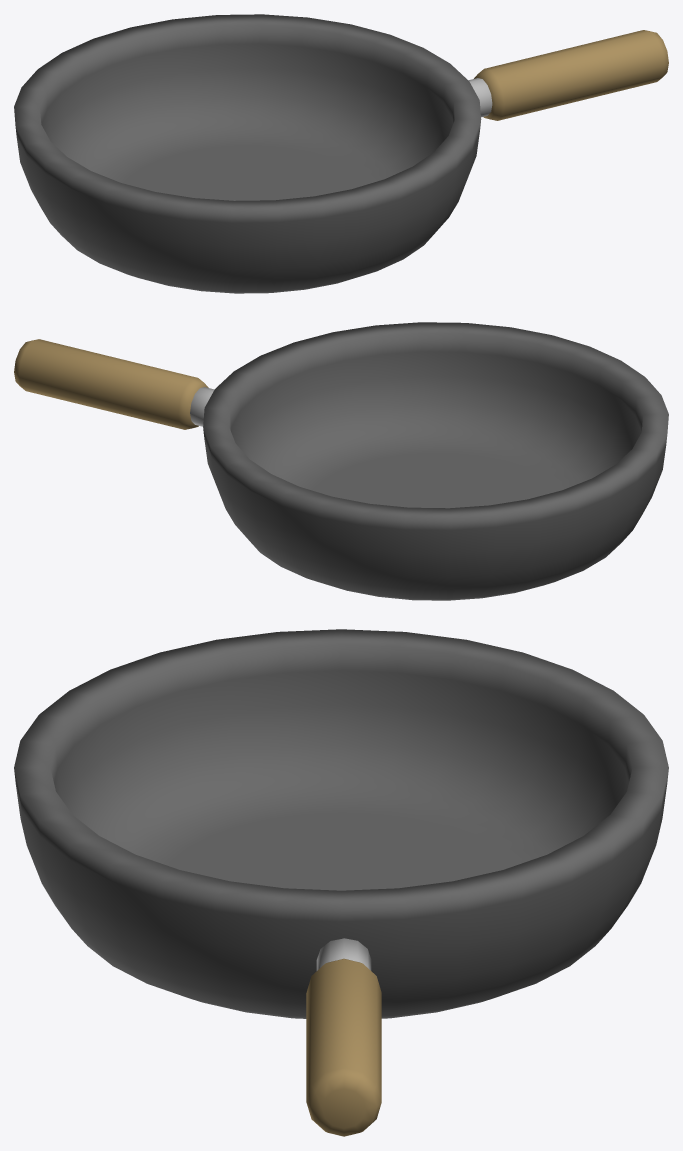
Rendered from Pan_01.fbx.
3 views of the same model, one above another, from view 1: azimuth 30°, elevation 25°; view 2: azimuth 150°, elevation 25°; view 3: azimuth 270°, elevation 25° (orthographic). The views are drawn at different scales.
Parts seen in each view (by area): view 1: Pan_01; view 2: Pan_01; view 3: Pan_01.
Part boxes in pixels (x1,y1,x2,y2): Pan_01: (14,14,668,293); Pan_01: (14,322,668,600); Pan_01: (14,629,668,1136).
Size of the model in its own units: 16.59 by 2.79 by 10.92.
